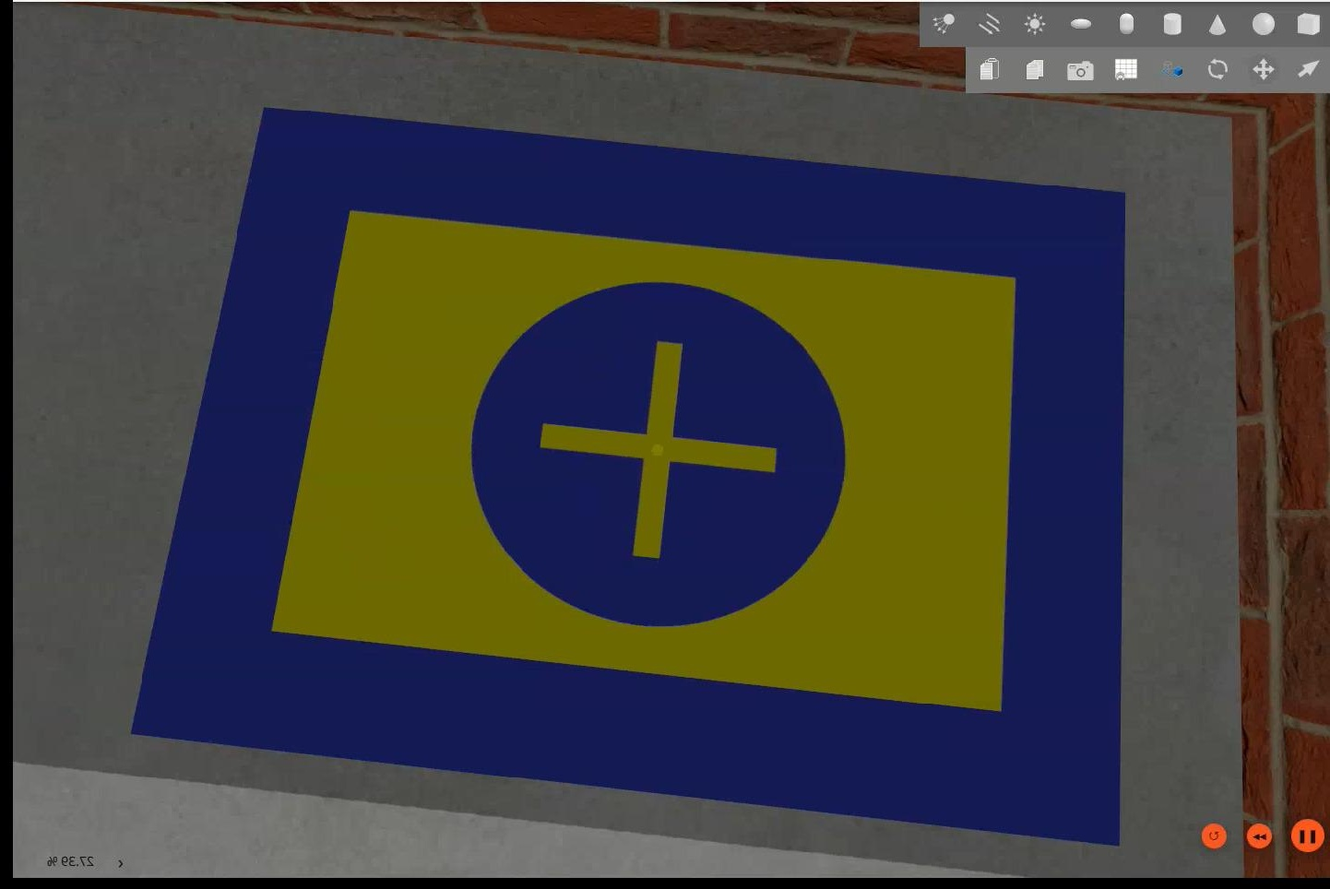large_base: (124, 113, 1129, 857)
